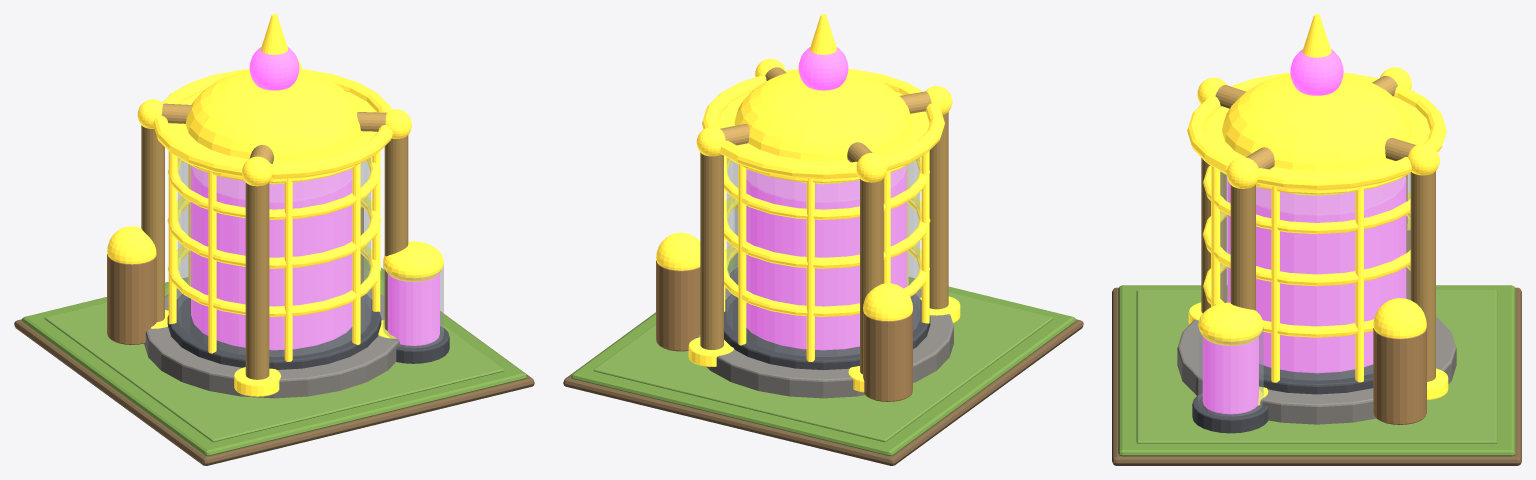
The model's file is elixir_collector_lv5.glb.
3 views of the same model, side by side, from view 1: azimuth 30°, elevation 25°; view 2: azimuth 150°, elevation 25°; view 3: azimuth 270°, elevation 25° (orthographic). The views are drawn at different scales.
Visible parts, largest first — view 1: GlassCylinder, ElixirLiquid, Base_Inner, BrassDome, Base_Grass, WellBase, Base_Dirt, EC_CrownHalo, PipeDown_3, WellIronRing, AuxTankGlass, EC_BoosterTank_-1 (+21 smaller); view 2: GlassCylinder, Base_Inner, ElixirLiquid, BrassDome, Base_Grass, WellBase, Base_Dirt, EC_CrownHalo, PipeDown_1, EC_BoosterTank_-1, WellIronRing, EC_BoosterTank_1 (+17 smaller); view 3: Base_Inner, GlassCylinder, ElixirLiquid, BrassDome, Base_Grass, Base_Dirt, WellBase, EC_CrownHalo, AuxTankGlass, EC_BoosterTank_1, PipeDown_1, AuxTankElixir (+21 smaller).
Boxes of the visible parts, x1,y1,x2,y2 form: GlassCylinder: (177, 157, 371, 356); ElixirLiquid: (191, 165, 352, 350); Base_Inner: (44, 267, 504, 442); BrassDome: (185, 70, 360, 184); Base_Grass: (22, 257, 526, 455); WellBase: (144, 289, 399, 398); Base_Dirt: (14, 268, 534, 465); EC_CrownHalo: (153, 69, 392, 179); PipeDown_3: (245, 182, 269, 379); WellIronRing: (167, 294, 381, 369); AuxTankGlass: (383, 264, 443, 347); EC_BoosterTank_-1: (107, 254, 156, 344); GlassCylinder: (726, 157, 920, 356); Base_Inner: (593, 264, 1053, 442); ElixirLiquid: (746, 165, 906, 350); BrassDome: (734, 70, 912, 184); Base_Grass: (571, 253, 1075, 455); WellBase: (696, 289, 953, 398); Base_Dirt: (563, 312, 1083, 465); EC_CrownHalo: (702, 69, 944, 179); PipeDown_1: (700, 152, 723, 349); EC_BoosterTank_-1: (863, 311, 912, 401); WellIronRing: (724, 294, 930, 369); EC_BoosterTank_1: (656, 260, 700, 351); Base_Inner: (1136, 290, 1497, 443); GlassCylinder: (1220, 172, 1410, 380); ElixirLiquid: (1227, 176, 1406, 373); BrassDome: (1222, 74, 1411, 195); Base_Grass: (1118, 285, 1515, 456); Base_Dirt: (1112, 287, 1521, 465); WellBase: (1177, 317, 1456, 424); EC_CrownHalo: (1187, 73, 1446, 190); AuxTankGlass: (1198, 327, 1263, 416); EC_BoosterTank_1: (1373, 328, 1426, 424); PipeDown_1: (1410, 171, 1435, 381); AuxTankElixir: (1202, 336, 1258, 414).
Size of the model in its own units: 2.76 by 2.72 by 2.76.
